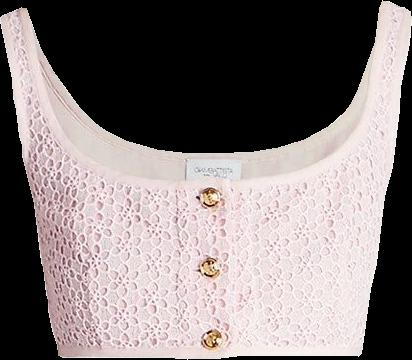Bodice: (0, 1, 411, 358)
Neckline: (23, 1, 385, 181)
Waistline: (58, 350, 360, 359)
